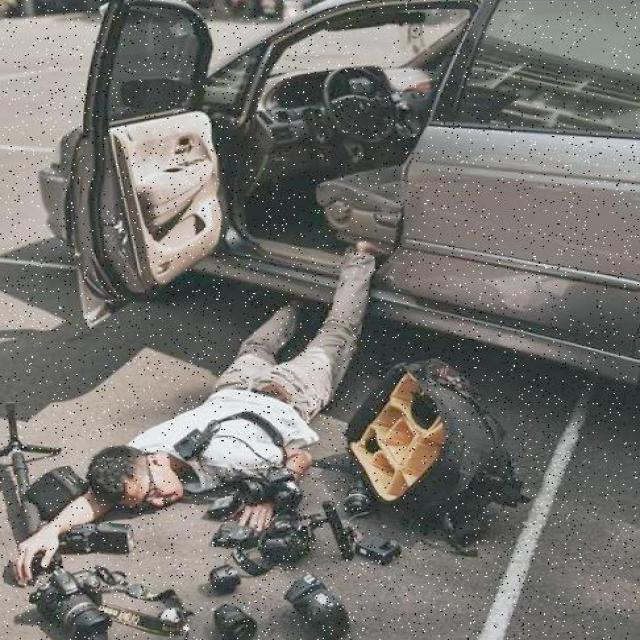fall: (88, 255, 387, 514)
